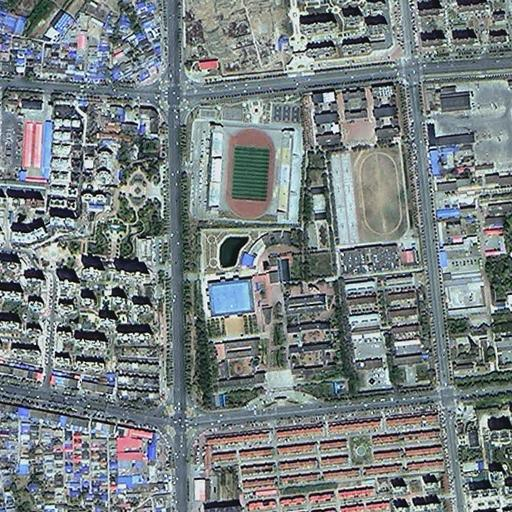school: (185, 99, 342, 406)
